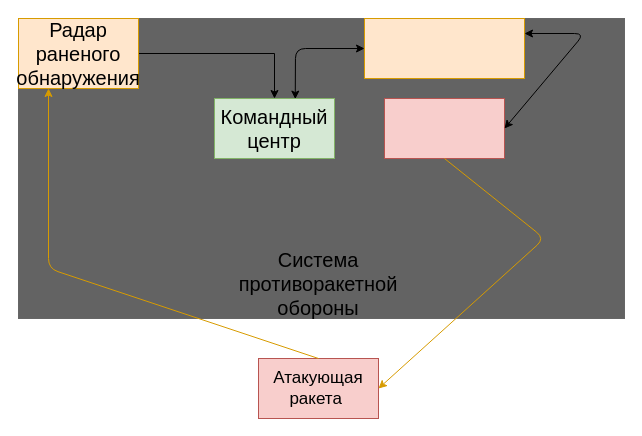
Some shapes in this 642 by 436 pixel diagram are drawn without their labels. Each missing label, with the box of its shape:
Отслеживающий радар: (364, 18, 524, 78)
Ракета / ракеты - перехватчики: (384, 98, 504, 158)
